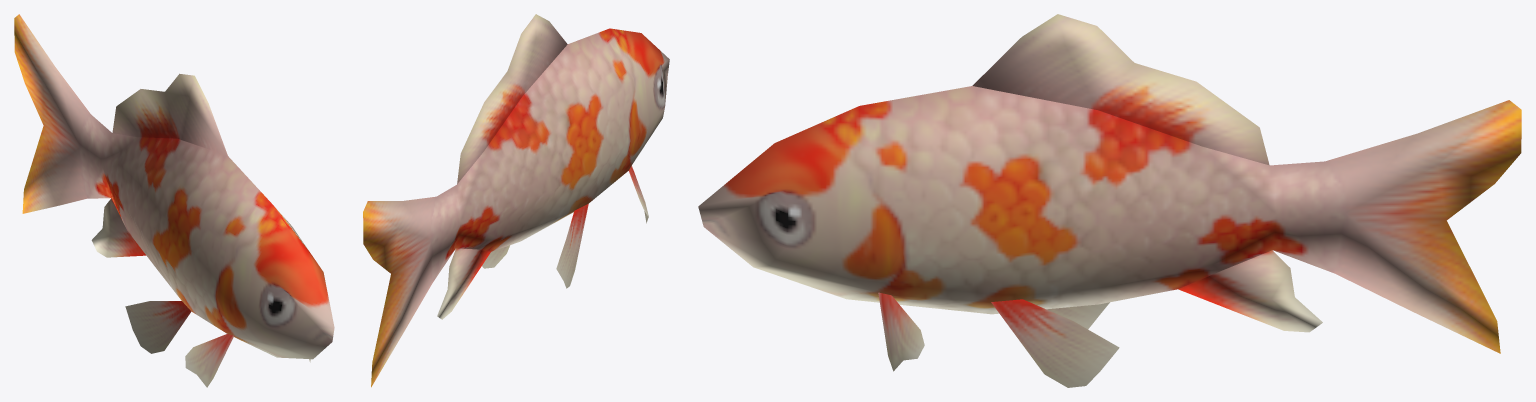
File: jsf_Goldfish_04.fbx
3 views of the same model, side by side, from view 1: azimuth 30°, elevation 25°; view 2: azimuth 150°, elevation 25°; view 3: azimuth 270°, elevation 25° (orthographic). The views are drawn at different scales.
Parts seen in each view (by area): view 1: jsf_Goldfish_04; view 2: jsf_Goldfish_04; view 3: jsf_Goldfish_04.
Part boxes in pixels (x1,y1,x2,y2): jsf_Goldfish_04: (14,14,334,387); jsf_Goldfish_04: (363,14,669,387); jsf_Goldfish_04: (698,14,1521,387).
Bounding box in the file's own units: 1.01 × 2.07 × 4.42.
